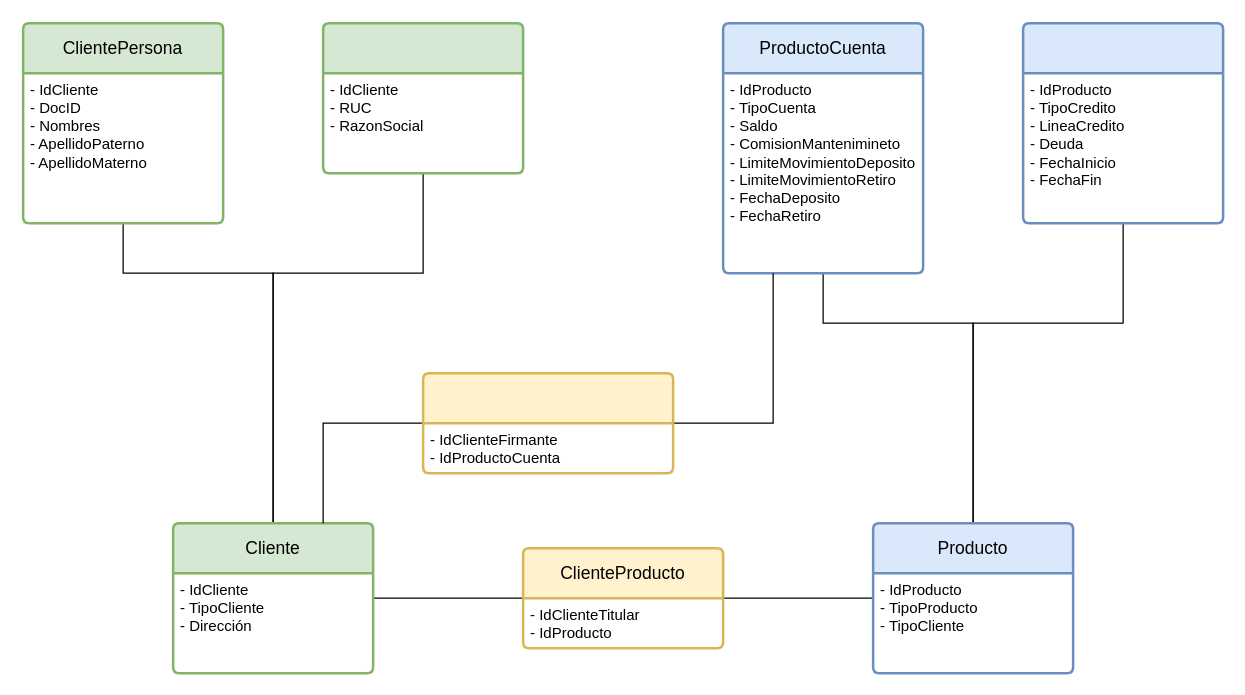
The diagram is 1245 pixels wide and 695 high, and some of its shapes have lost their labels. Here are the shapes that lost their labels. From the top down, the box of each, then its label:
(321, 21, 524, 174): ClienteEmpresa
(1021, 21, 1224, 224): ProductoCredito
(421, 371, 674, 474): FirmatenCuentaEmpresa
